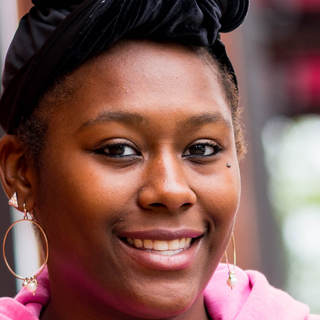eye: (85, 134, 146, 167), (177, 134, 227, 168)
